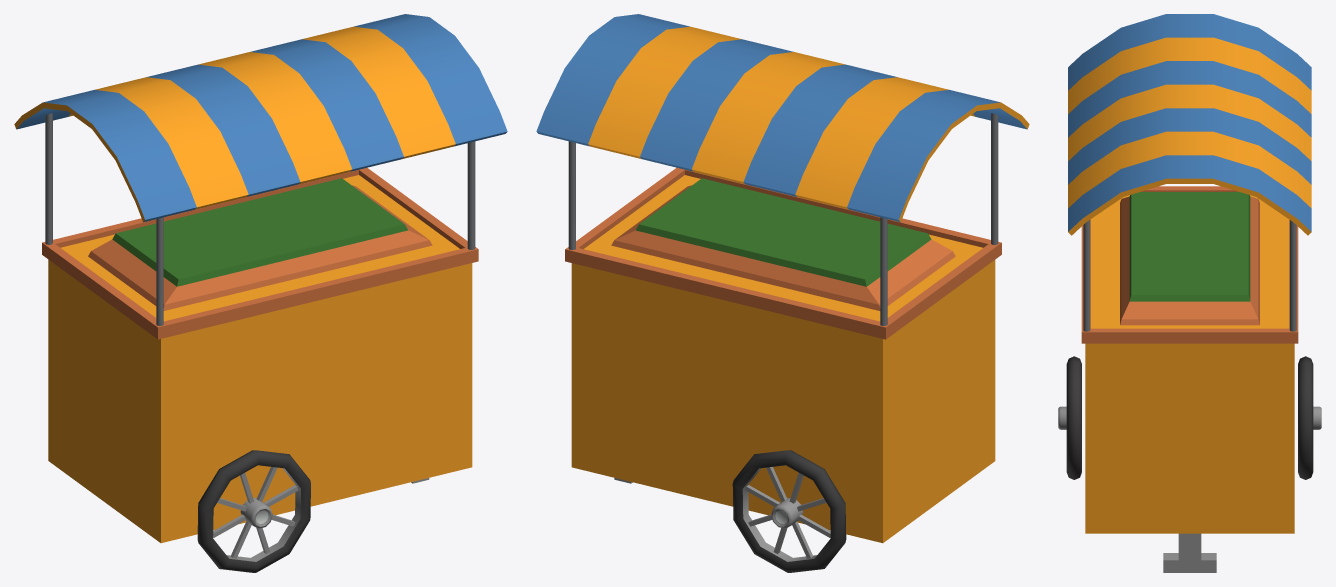
File: Ice Cream Cart_1.fbx
The picture shows the model from 3 angles, left to right: view 1: azimuth 30°, elevation 25°; view 2: azimuth 150°, elevation 25°; view 3: azimuth 270°, elevation 25°; orthographic projection. The views are drawn at different scales.
Parts seen in each view (by area): view 1: Ice Cream Cart_1; view 2: Ice Cream Cart_1; view 3: Ice Cream Cart_1.
Boxes of the visible parts, bbox=[...] form: Ice Cream Cart_1: bbox=[14, 14, 507, 572]; Ice Cream Cart_1: bbox=[536, 14, 1029, 572]; Ice Cream Cart_1: bbox=[1058, 14, 1321, 572].
Bounding box in the file's own units: 218 × 253 × 148.
